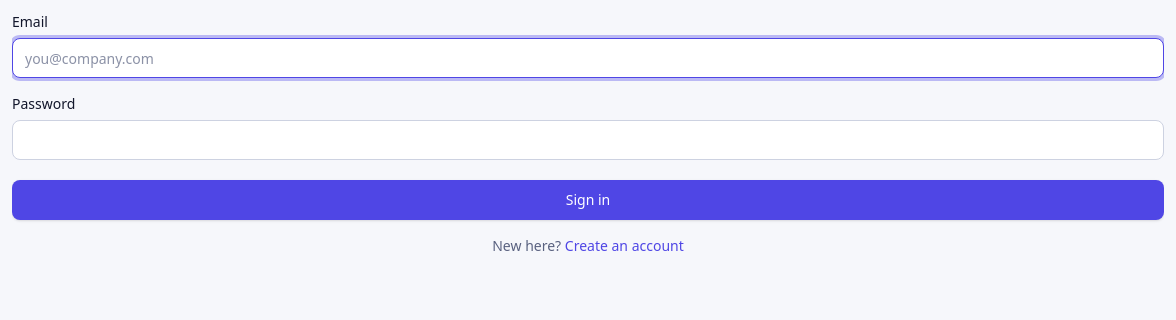
Scenario: sign in form › rate limiting is explained
Type "me@x.co" into the field labelled "Email" at (588, 58), box [12,38,1164,78]
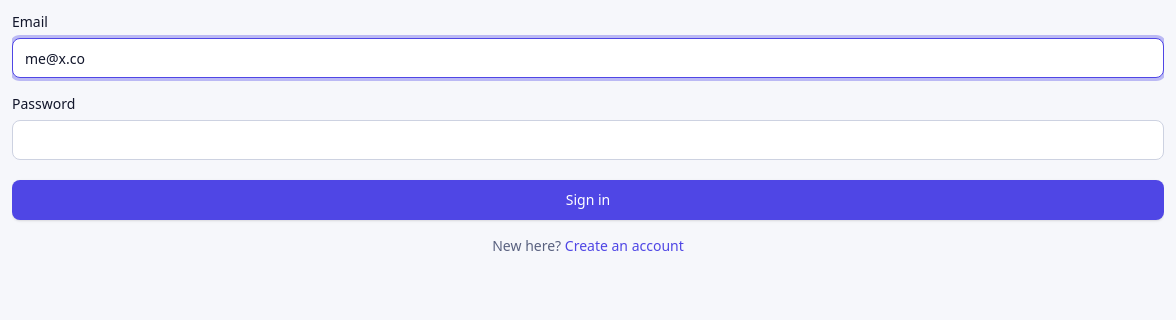
Type "whatever-pass" into the password field labelled "Password" at (588, 140), box [12,120,1164,160]
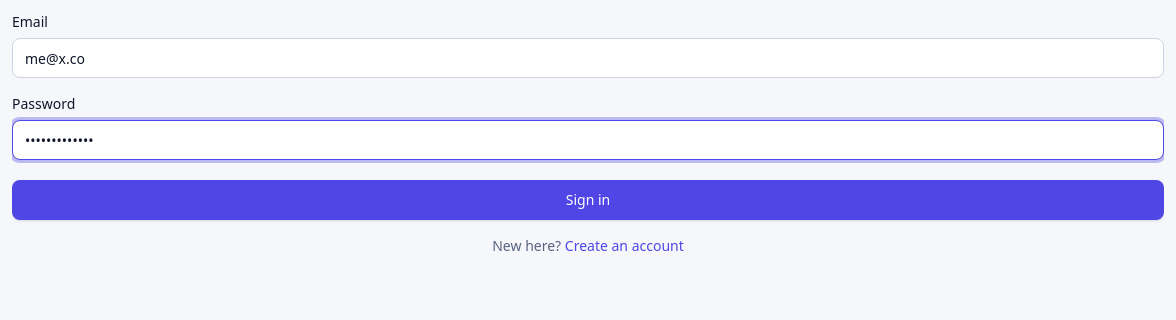
Click the button "Sign in" at (588, 200), box [12,180,1164,220]
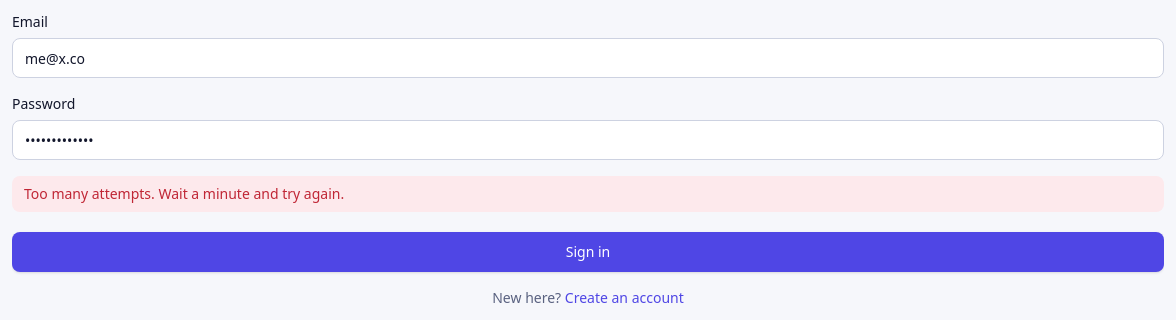
Expected: the message shows "Too many attempts", [24,184,344,203]
